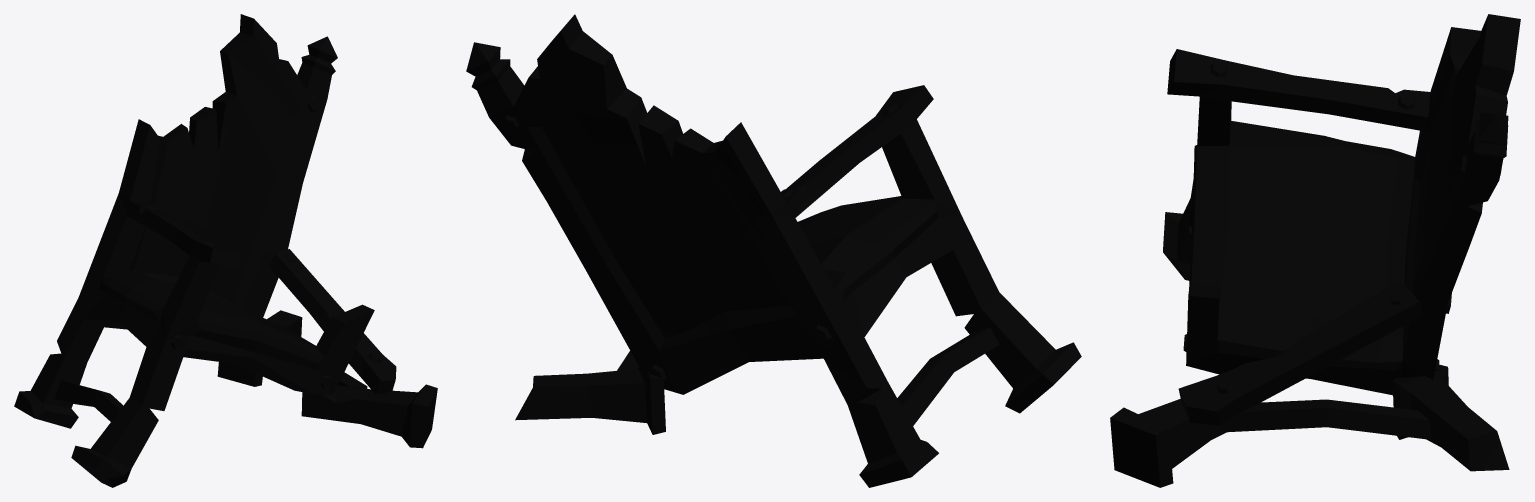
Rendered from dark_SM_Prop_Chair_01_Damaged_01.gltf.
The picture shows the model from 3 angles, left to right: view 1: azimuth 30°, elevation 25°; view 2: azimuth 150°, elevation 25°; view 3: azimuth 270°, elevation 25°; orthographic projection. The views are drawn at different scales.
Visible parts, largest first — view 1: SM_Prop_Chair_01_Damaged_01; view 2: SM_Prop_Chair_01_Damaged_01; view 3: SM_Prop_Chair_01_Damaged_01.
Boxes of the visible parts, box(x1,y1,x2,y2) form: SM_Prop_Chair_01_Damaged_01: box(14, 14, 437, 487); SM_Prop_Chair_01_Damaged_01: box(466, 14, 1081, 487); SM_Prop_Chair_01_Damaged_01: box(1110, 14, 1520, 487).
Size of the model in its own units: 1.15 by 1.02 by 0.8537.
Materials: 1 (1 with a texture image).
